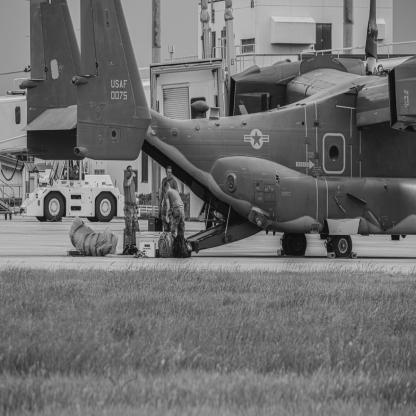V22: (20, 2, 416, 260)
